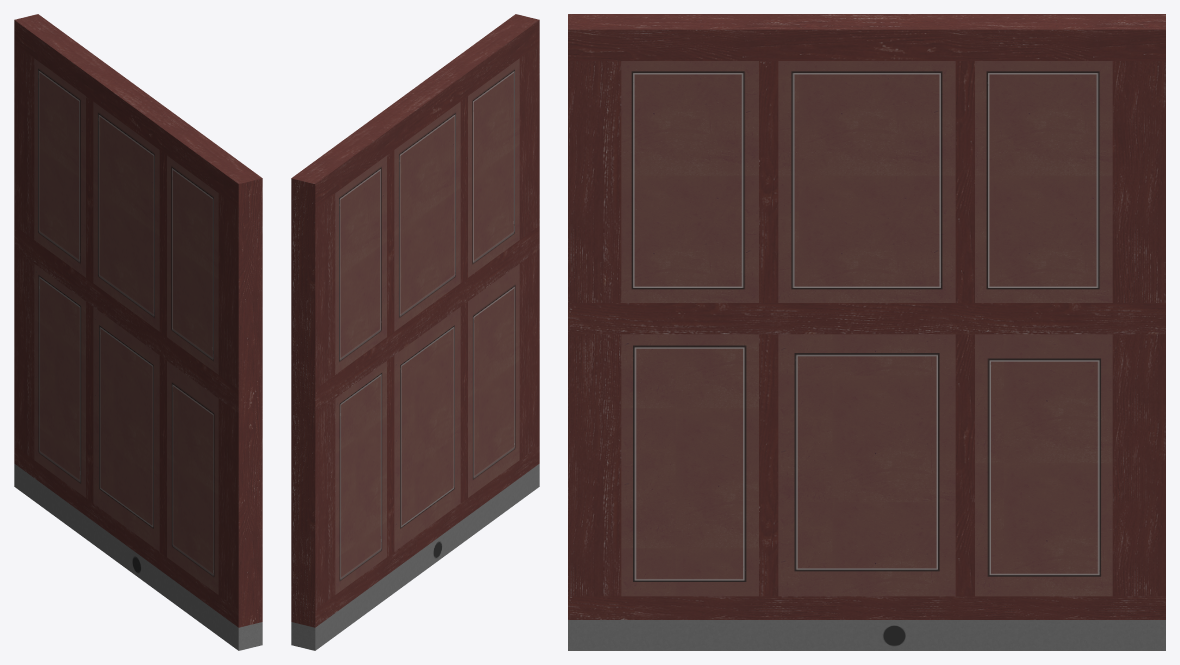
The model's file is SM_Ssang_Dae_Wall_C.fbx.
The picture shows the model from 3 angles, left to right: view 1: azimuth 30°, elevation 25°; view 2: azimuth 150°, elevation 25°; view 3: azimuth 270°, elevation 25°; orthographic projection. The views are drawn at different scales.
Visible parts, largest first — view 1: SM_Ssang_Dae_Wall_C; view 2: SM_Ssang_Dae_Wall_C; view 3: SM_Ssang_Dae_Wall_C.
Boxes of the visible parts, x1=… form: SM_Ssang_Dae_Wall_C: x1=14, y1=14, x2=262, y2=650; SM_Ssang_Dae_Wall_C: x1=291, y1=14, x2=539, y2=650; SM_Ssang_Dae_Wall_C: x1=568, y1=14, x2=1165, y2=650.
Bounding box in the file's own units: 20 × 371 × 324.
